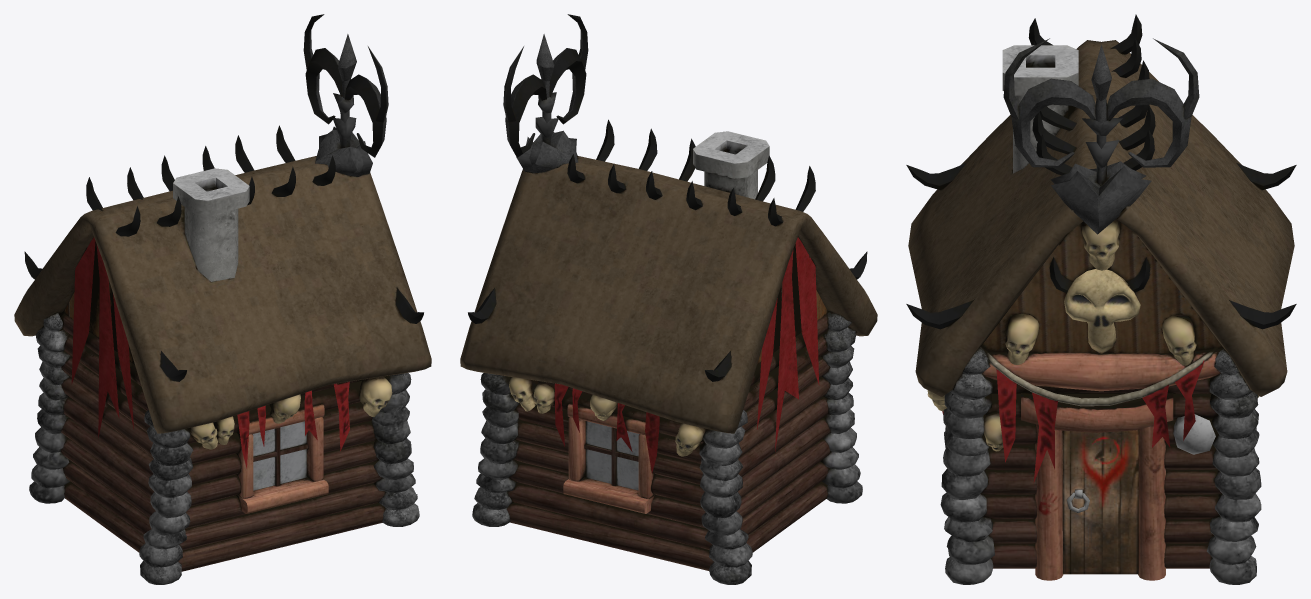
Rendered from DOM VOJDIA STAAAASA.fbx.
3 renders of one model, left to right at view 1: azimuth 30°, elevation 25°; view 2: azimuth 150°, elevation 25°; view 3: azimuth 270°, elevation 25°, orthographic. The views are drawn at different scales.
Parts seen in each view (by area): view 1: hose wozd; view 2: hose wozd; view 3: hose wozd.
Boxes of the visible parts, x1,y1,x2,y2 form: hose wozd: (14, 14, 431, 584); hose wozd: (460, 14, 877, 584); hose wozd: (906, 14, 1296, 584).
Size of the model in its own units: 30.8 by 47.24 by 30.77.
1 material, 1 textured.
